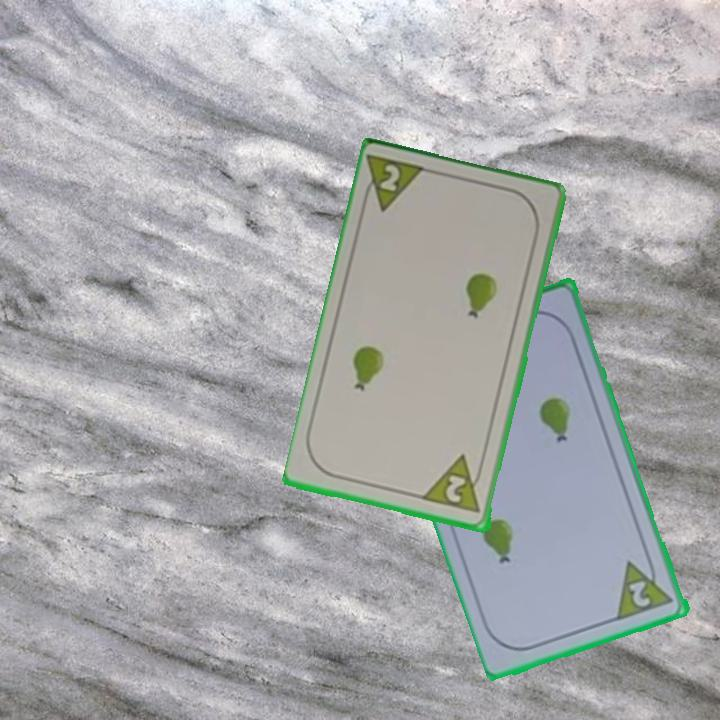2p: (358, 151, 431, 216), (614, 551, 677, 624), (421, 452, 488, 517)
